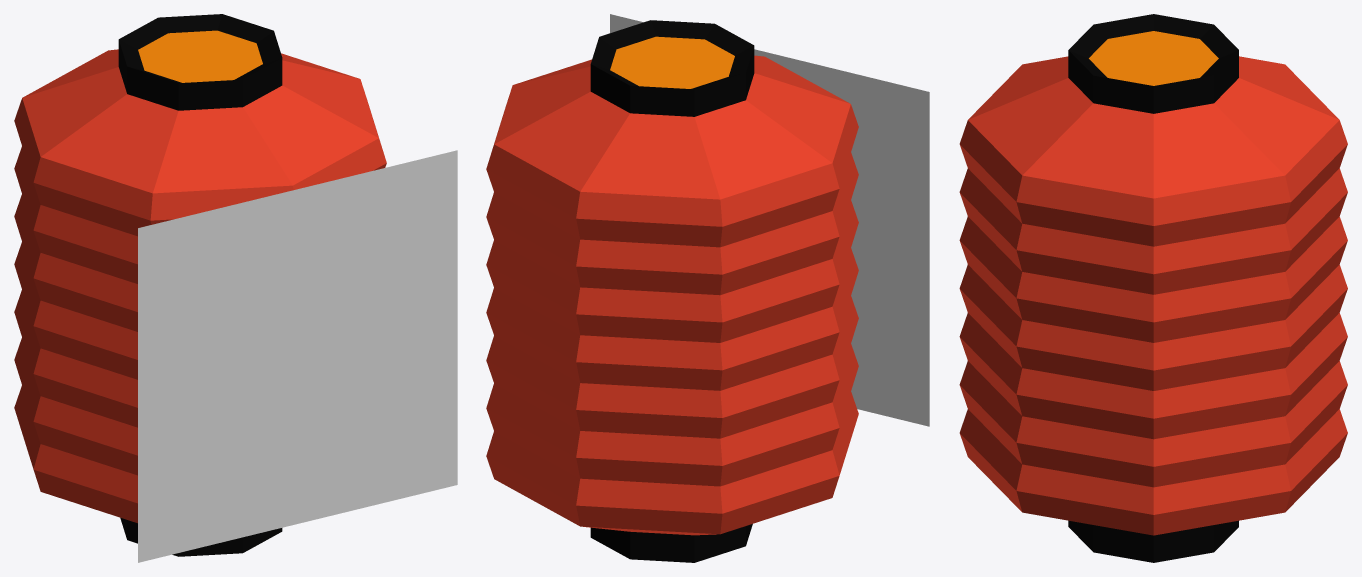
File: LanternYokai.fbx
3 views of the same model, side by side, from view 1: azimuth 30°, elevation 25°; view 2: azimuth 150°, elevation 25°; view 3: azimuth 270°, elevation 25° (orthographic).
Visible parts, largest first — view 1: FaceCutout, Lantern; view 2: Lantern, FaceCutout; view 3: Lantern.
Part boxes in pixels (left/top/right/bottom): FaceCutout: left=138, top=150, right=457, bottom=562; Lantern: left=14, top=14, right=386, bottom=556; Lantern: left=486, top=20, right=858, bottom=562; FaceCutout: left=610, top=14, right=929, bottom=426; Lantern: left=959, top=14, right=1347, bottom=562.
Bounding box in the file's own units: 209 × 283 × 210.
